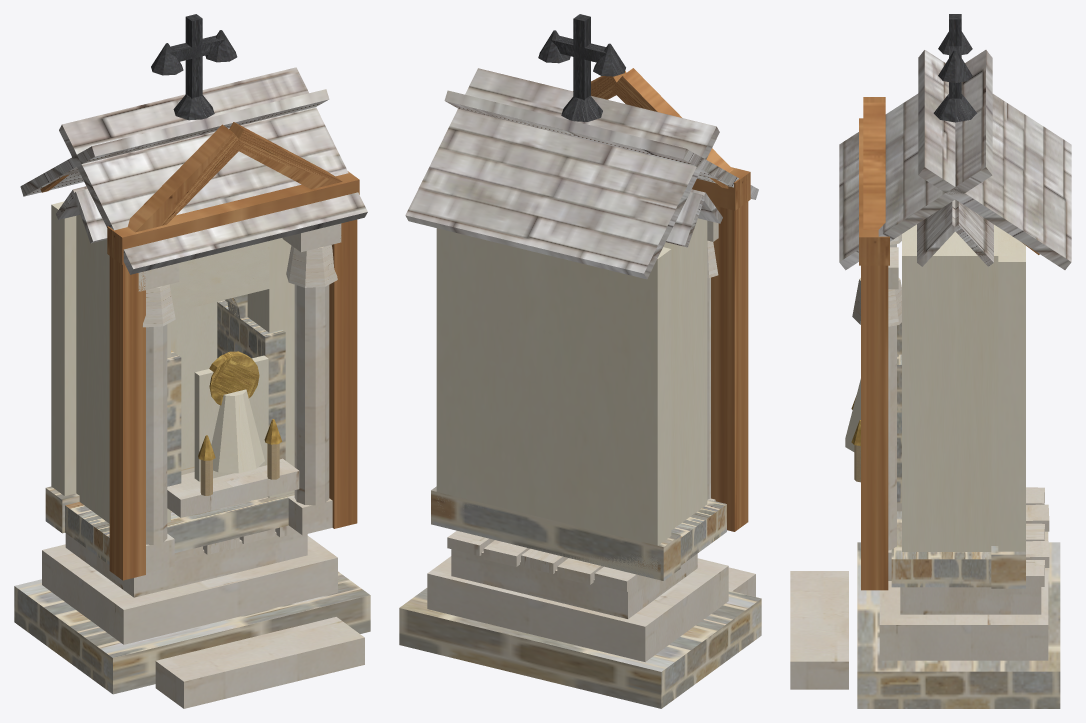
File: wayside_shrine_textured_v1.glb
3 views of the same model, side by side, from view 1: azimuth 30°, elevation 25°; view 2: azimuth 150°, elevation 25°; view 3: azimuth 270°, elevation 25° (orthographic). The views are drawn at different scales.
Visible parts, largest first — view 1: WS_Limewashed_Stone_Niche, WS_Worn_Stepped_Plinth, WS_Split_Shingle_Gable_Roof, WS_Timber_Gable_Canopy, WS_Facade_Half_Columns, WS_Marian_Icon_And_Votives, WS_Worn_Roadside_Step, WS_Limewashed_Rear_Closure, WS_Forged_Iron_Ridge_Cross; view 2: WS_Limewashed_Rear_Closure, WS_Split_Shingle_Gable_Roof, WS_Worn_Stepped_Plinth, WS_Timber_Gable_Canopy, WS_Limewashed_Stone_Niche, WS_Forged_Iron_Ridge_Cross, WS_Facade_Half_Columns, WS_Worn_Roadside_Step; view 3: WS_Limewashed_Stone_Niche, WS_Split_Shingle_Gable_Roof, WS_Worn_Stepped_Plinth, WS_Timber_Gable_Canopy, WS_Limewashed_Rear_Closure, WS_Worn_Roadside_Step, WS_Facade_Half_Columns, WS_Forged_Iron_Ridge_Cross, WS_Marian_Icon_And_Votives.
Boxes of the visible parts, left/top/right/bottom form: WS_Limewashed_Stone_Niche: left=65, top=215, right=294, bottom=564; WS_Worn_Stepped_Plinth: left=14, top=525, right=370, bottom=694; WS_Split_Shingle_Gable_Roof: left=20, top=67, right=367, bottom=274; WS_Timber_Gable_Canopy: left=107, top=122, right=359, bottom=580; WS_Facade_Half_Columns: left=138, top=223, right=341, bottom=573; WS_Marian_Icon_And_Votives: left=167, top=351, right=299, bottom=517; WS_Worn_Roadside_Step: left=155, top=617, right=364, bottom=708; WS_Limewashed_Rear_Closure: left=45, top=201, right=194, bottom=533; WS_Forged_Iron_Ridge_Cross: left=151, top=14, right=237, bottom=120; WS_Limewashed_Rear_Closure: left=431, top=228, right=680, bottom=580; WS_Split_Shingle_Gable_Roof: left=405, top=68, right=758, bottom=279; WS_Worn_Stepped_Plinth: left=399, top=531, right=761, bottom=708; WS_Timber_Gable_Canopy: left=591, top=68, right=750, bottom=531; WS_Limewashed_Stone_Niche: left=579, top=218, right=726, bottom=580; WS_Forged_Iron_Ridge_Cross: left=538, top=14, right=625, bottom=121; WS_Facade_Half_Columns: left=707, top=220, right=718, bottom=501; WS_Worn_Roadside_Step: left=728, top=567, right=755, bottom=596; WS_Limewashed_Stone_Niche: left=891, top=224, right=1015, bottom=587; WS_Split_Shingle_Gable_Roof: left=839, top=50, right=1071, bottom=270; WS_Worn_Stepped_Plinth: left=857, top=487, right=1060, bottom=708; WS_Timber_Gable_Canopy: left=859, top=97, right=889, bottom=590; WS_Limewashed_Rear_Closure: left=991, top=230, right=1025, bottom=588; WS_Worn_Roadside_Step: left=790, top=571, right=848, bottom=689; WS_Facade_Half_Columns: left=852, top=234, right=901, bottom=580; WS_Forged_Iron_Ridge_Cross: left=933, top=14, right=976, bottom=122; WS_Marian_Icon_And_Votives: left=845, top=379, right=901, bottom=511.
Bounding box in the file's own units: 1.78 × 4.03 × 1.64.
Materials: 12 (12 with a texture image).
